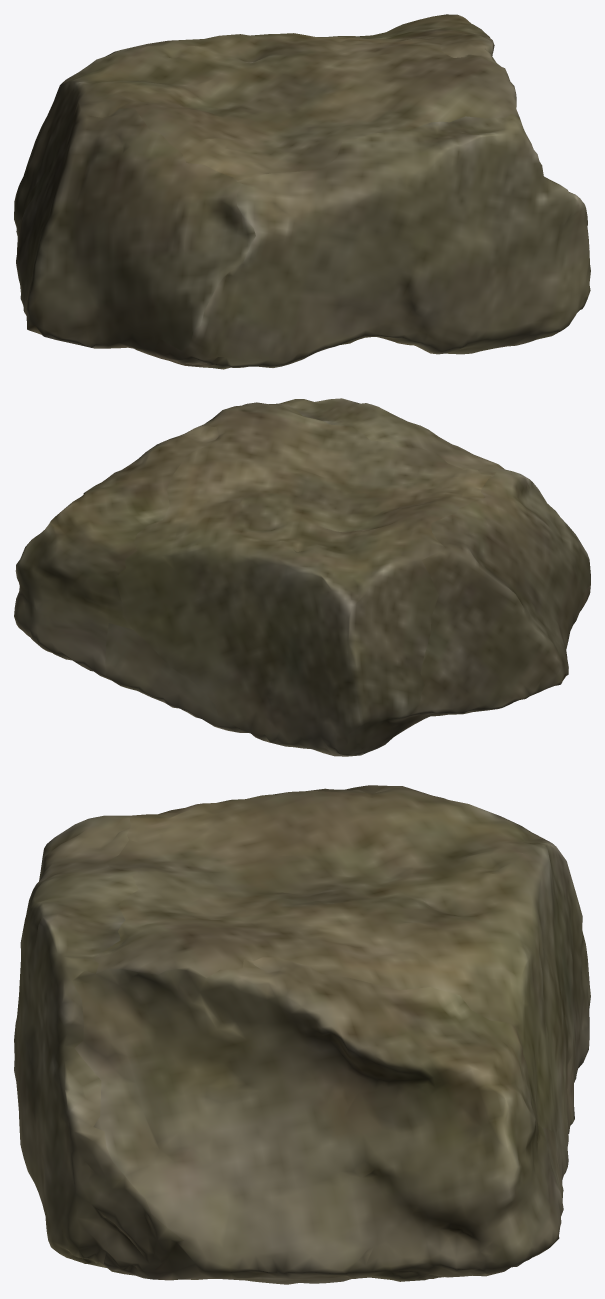
Rendered from rock_moss_set_02_a.gltf.
The picture shows the model from 3 angles, top to bottom: view 1: azimuth 30°, elevation 25°; view 2: azimuth 150°, elevation 25°; view 3: azimuth 270°, elevation 25°; orthographic projection. The views are drawn at different scales.
Parts seen in each view (by area): view 1: rock_moss_set_02_rock07; view 2: rock_moss_set_02_rock07; view 3: rock_moss_set_02_rock07.
Part boxes in pixels (x1=…): rock_moss_set_02_rock07: x1=14, y1=14, x2=590, y2=369; rock_moss_set_02_rock07: x1=14, y1=398, x2=590, y2=756; rock_moss_set_02_rock07: x1=14, y1=785, x2=590, y2=1284.
Bounding box in the file's own units: 1.69 × 0.7448 × 1.22.
Materials: 1 (1 with a texture image).
